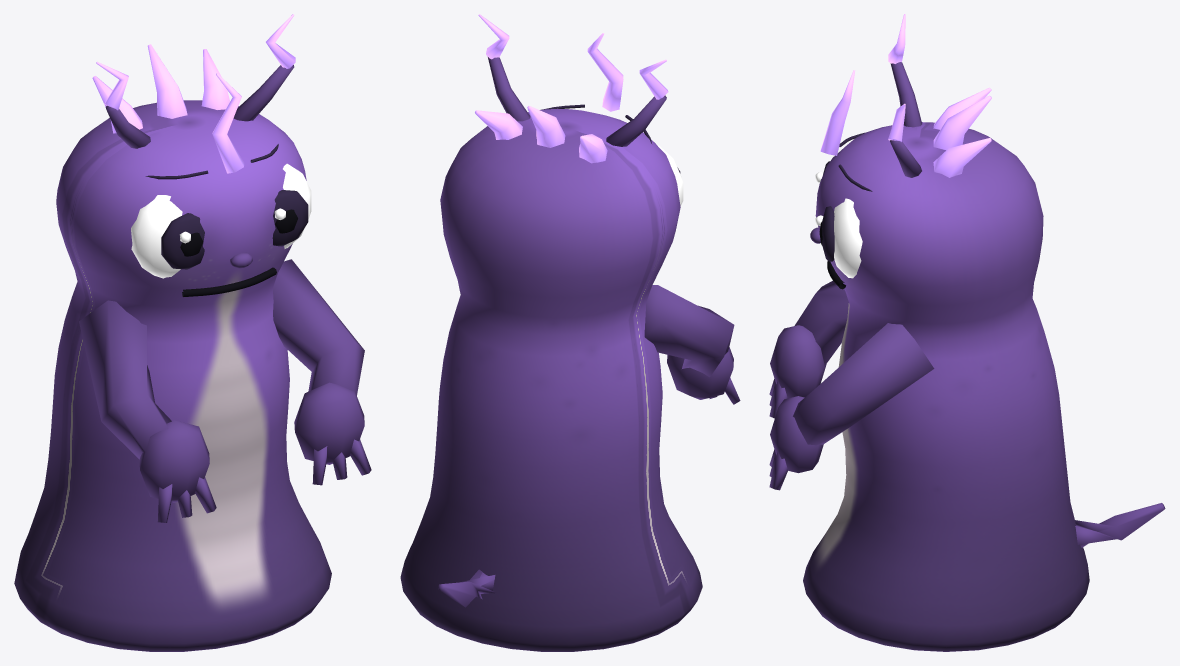
Rendered from ghoul_pixar.glb.
The picture shows the model from 3 angles, left to right: view 1: azimuth 30°, elevation 25°; view 2: azimuth 150°, elevation 25°; view 3: azimuth 270°, elevation 25°; orthographic projection. The views are drawn at different scales.
Visible parts, largest first — view 1: ghoul_cuerpo; view 2: ghoul_cuerpo; view 3: ghoul_cuerpo.
Part boxes in pixels (x1,y1,x2,y2): ghoul_cuerpo: (14,14,371,651); ghoul_cuerpo: (400,14,740,651); ghoul_cuerpo: (769,14,1165,651).
Bounding box in the file's own units: 0.2973 × 0.58 × 0.3909.
Materials: 5 (1 with a texture image).
